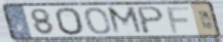8: (28, 7, 56, 36)
F: (165, 5, 192, 35)
M: (105, 5, 146, 36)
O: (54, 6, 86, 37), (83, 6, 113, 36)
P: (135, 5, 166, 36)
